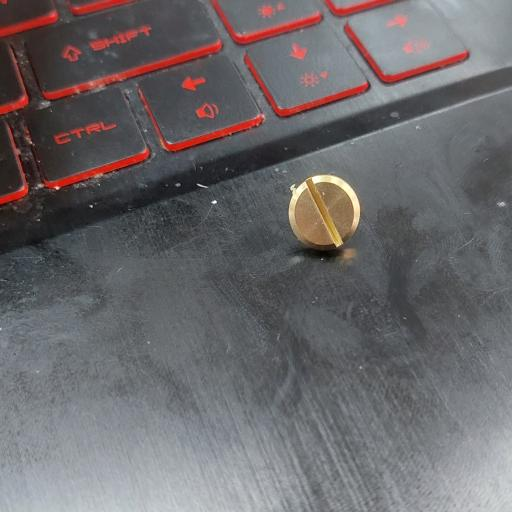Slotted: (290, 171, 364, 256)
